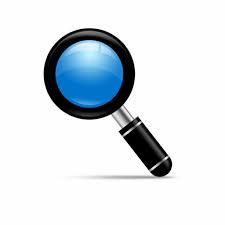searchIcon: (41, 25, 173, 177)
